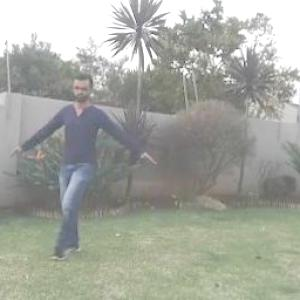land: (14, 72, 159, 250)
